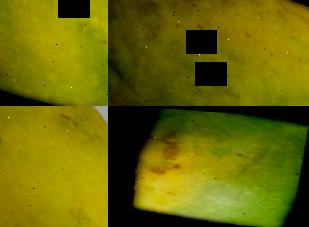PartiallyRipe: (108, 106, 309, 227), (108, 0, 309, 106), (0, 106, 108, 227), (0, 0, 108, 106)
